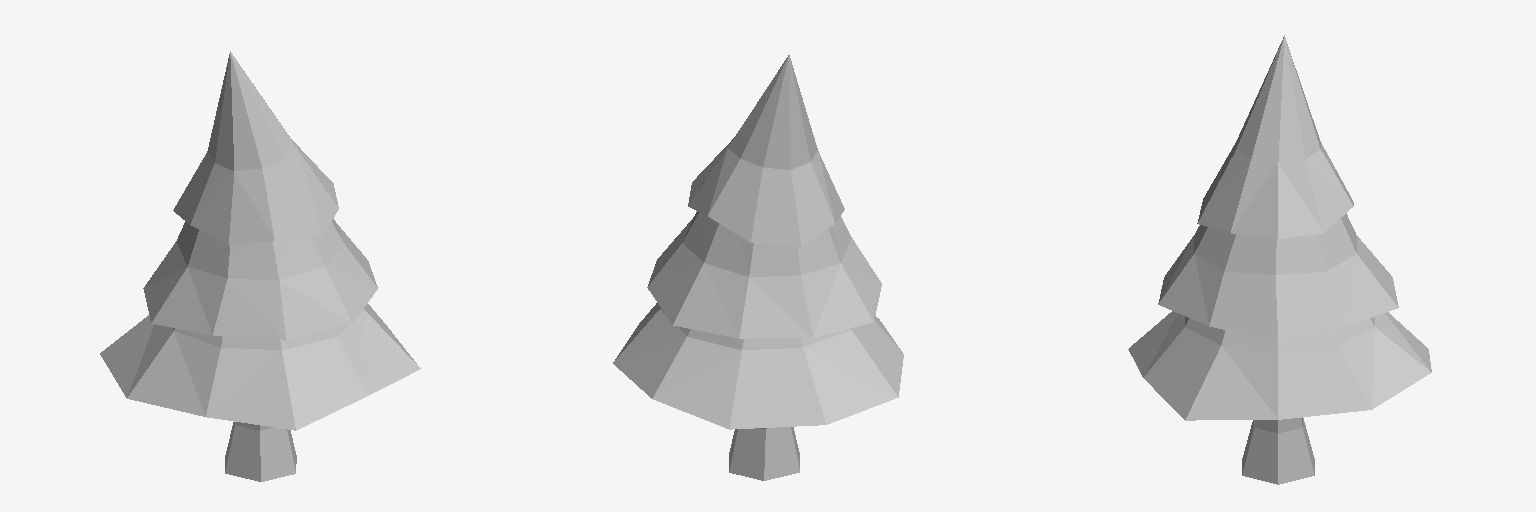
The model's file is tree1.obj.
3 renders of one model, left to right at view 1: azimuth 30°, elevation 25°; view 2: azimuth 150°, elevation 25°; view 3: azimuth 270°, elevation 25°, orthographic.
Parts seen in each view (by area): view 1: Tree_1_w_Tree_1_w_0; view 2: Tree_1_w_Tree_1_w_0; view 3: Tree_1_w_Tree_1_w_0.
Part boxes in pixels (bbox=[...]): Tree_1_w_Tree_1_w_0: bbox=[100, 51, 420, 481]; Tree_1_w_Tree_1_w_0: bbox=[613, 55, 903, 480]; Tree_1_w_Tree_1_w_0: bbox=[1128, 35, 1431, 484].
Bounding box in the file's own units: 0.4487 × 0.6904 × 0.4541.